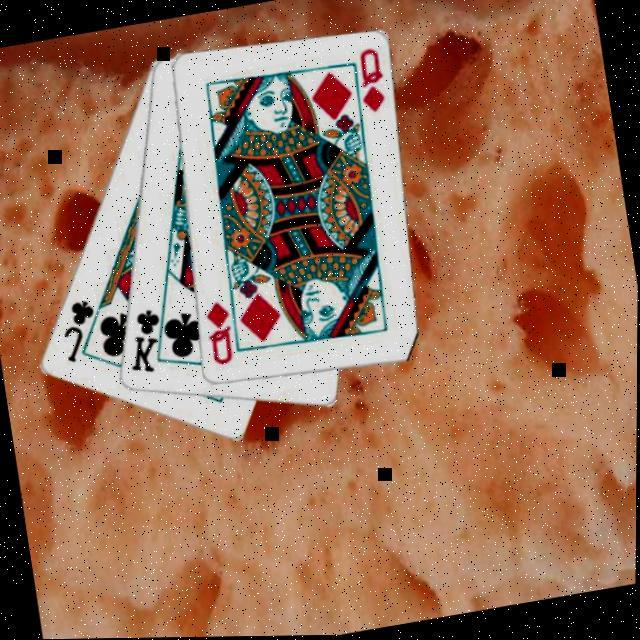JC: (52, 296, 103, 370)
KC: (118, 303, 176, 381)
QD: (198, 299, 238, 372), (349, 46, 388, 120)
